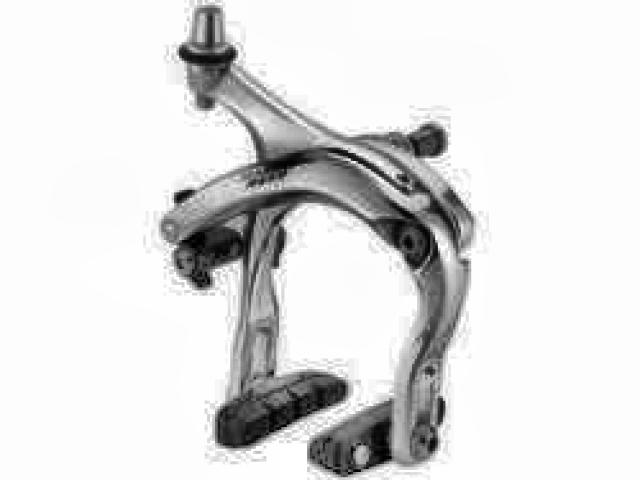rim_brake: (160, 8, 477, 478)
